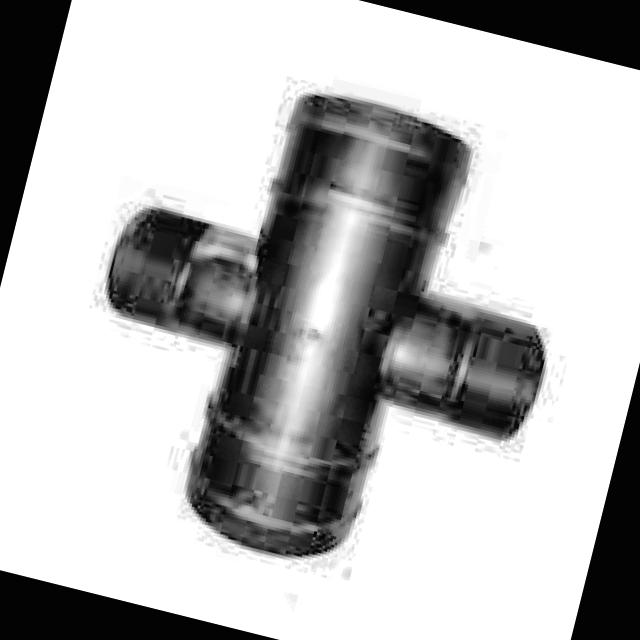EQUALCROSS: (104, 92, 549, 559)
